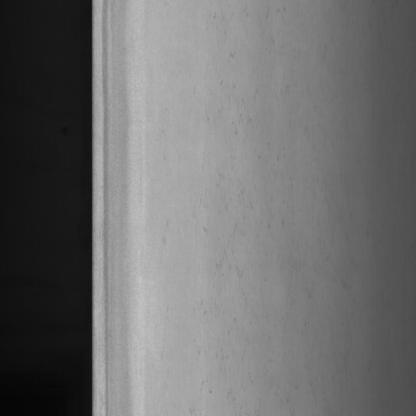silk_spot: (200, 25, 286, 304)
